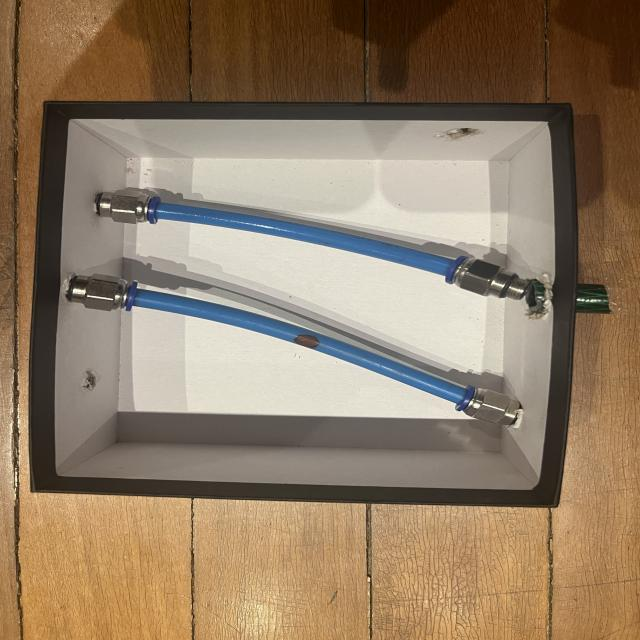hose_damage: (292, 333, 323, 350)
